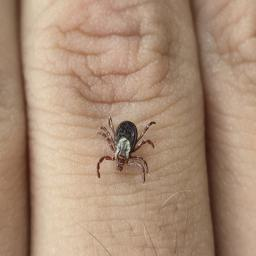Dermacentor variabilis: (97, 115, 154, 181)
